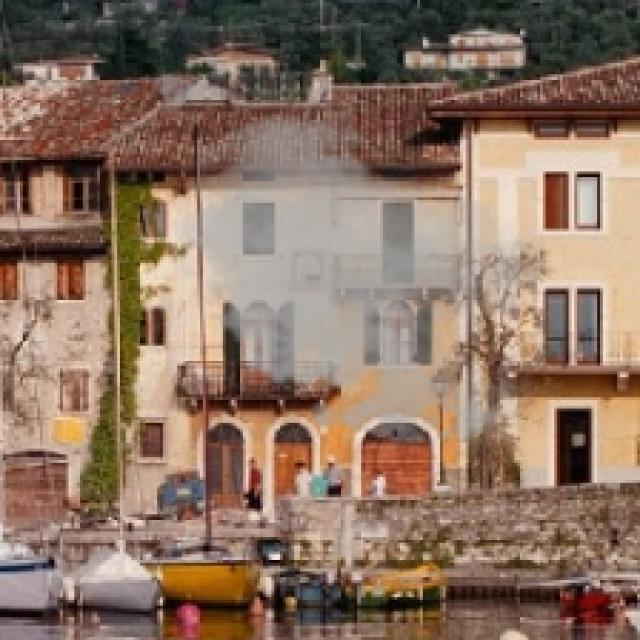smoke: (165, 106, 546, 454)
